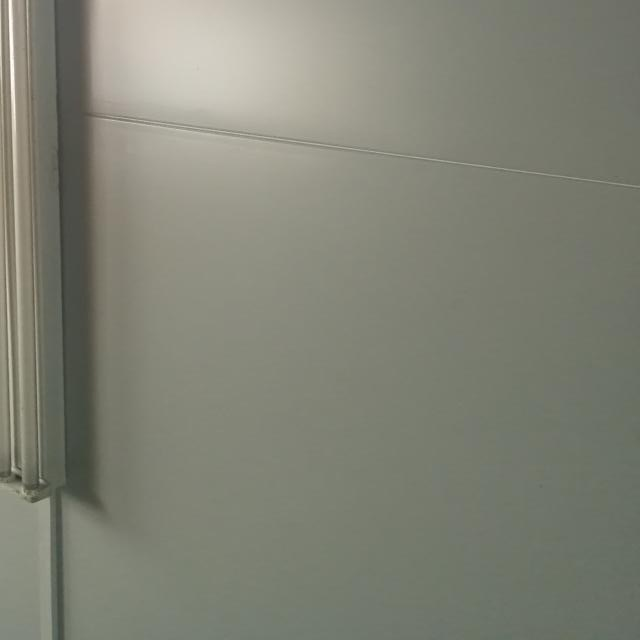fluorescent tube: (0, 0, 98, 513)
